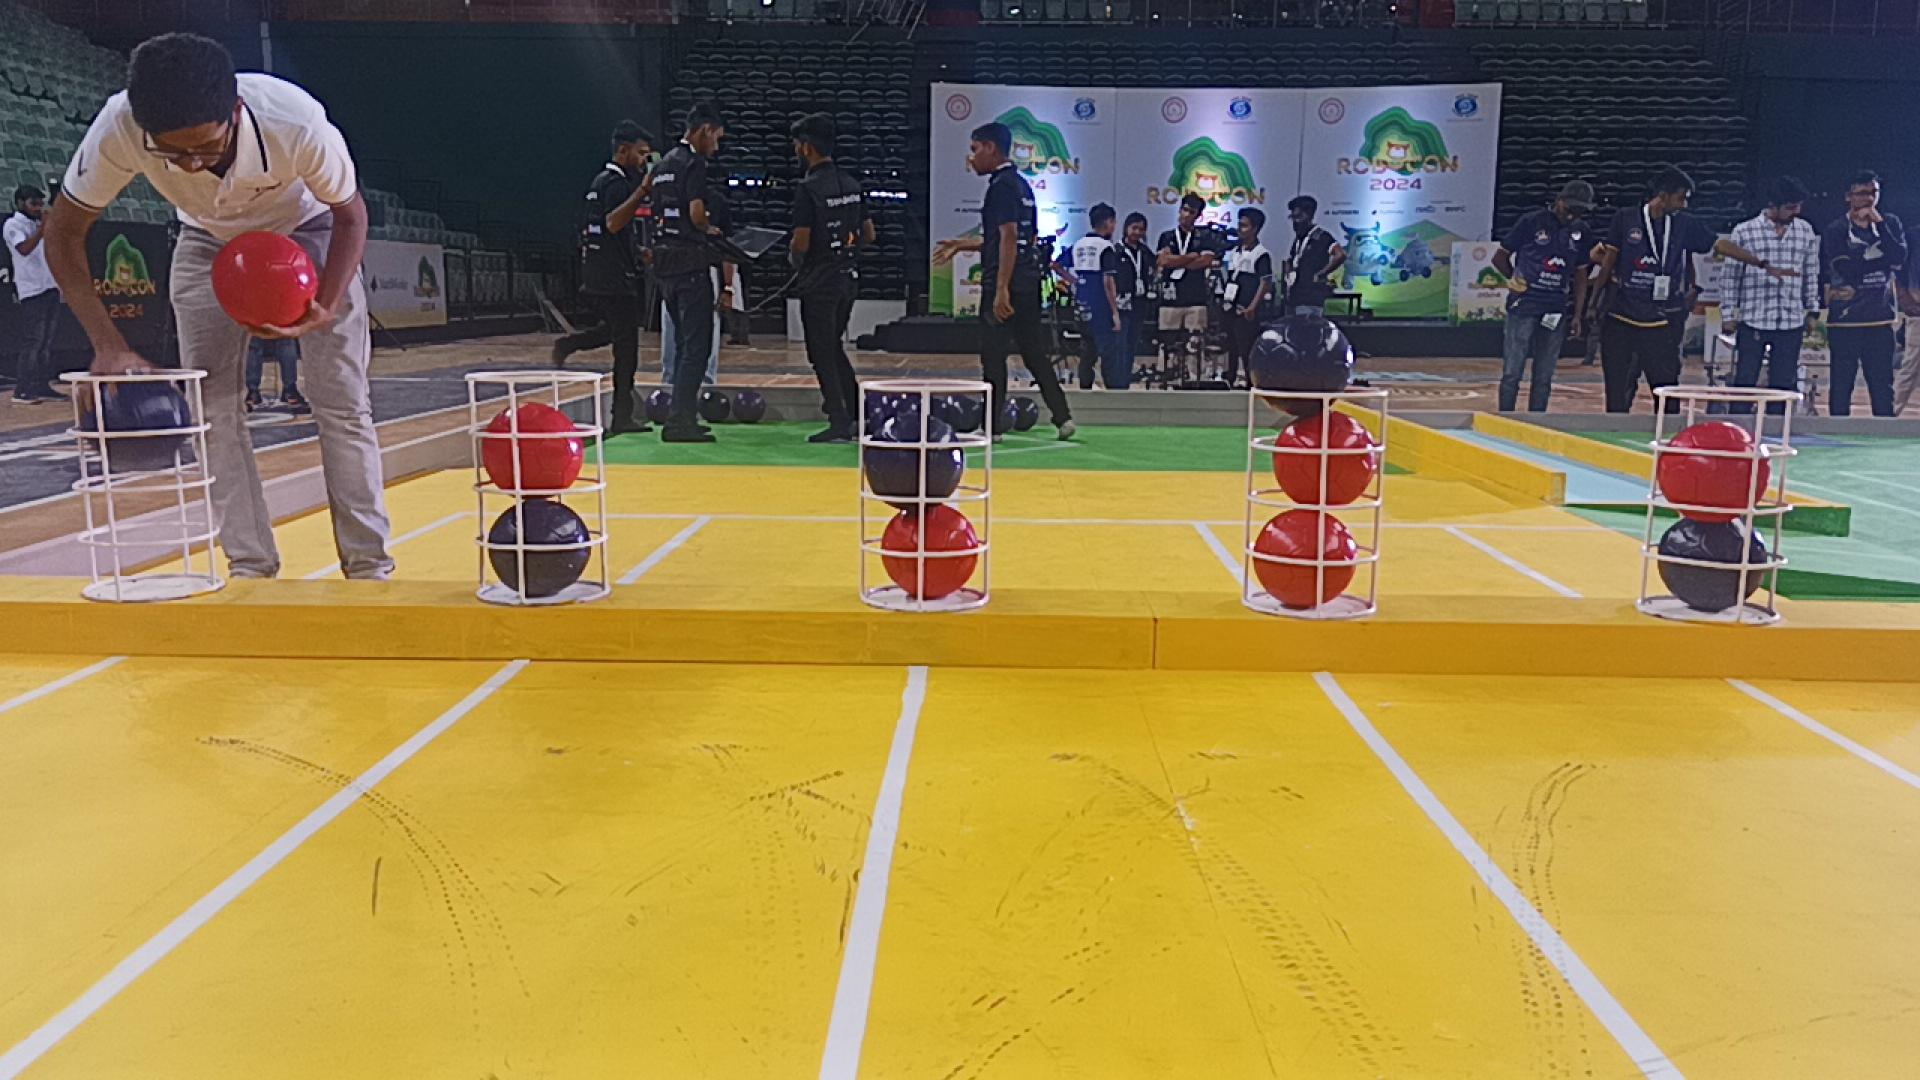dhoka: (1249, 307, 1354, 418), (488, 498, 592, 600), (862, 409, 964, 510), (1658, 517, 1766, 609)
laale: (1658, 419, 1770, 520), (1253, 510, 1357, 608), (1271, 413, 1379, 506), (480, 401, 585, 492), (881, 506, 982, 599)
